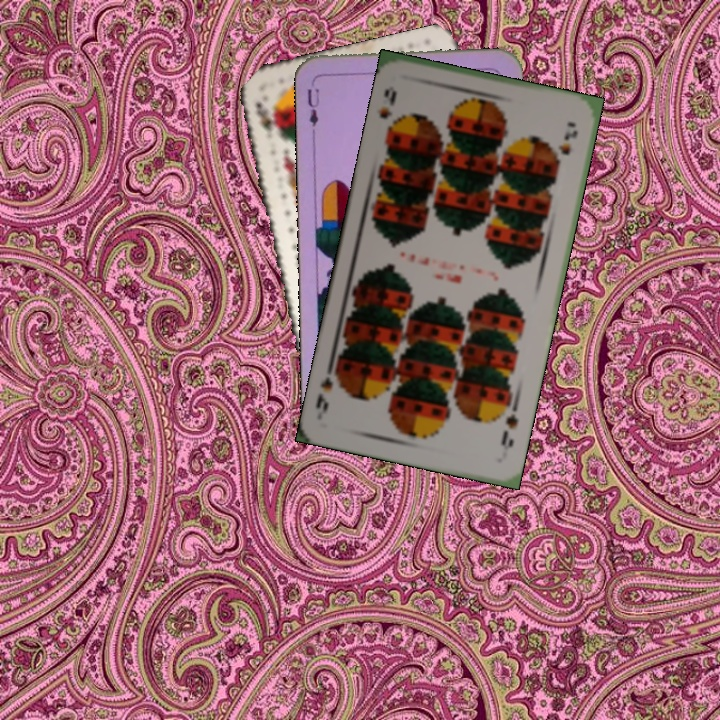EU: (303, 77, 322, 136)
S9: (374, 84, 401, 137), (497, 410, 521, 453)
SK: (251, 98, 279, 142)
